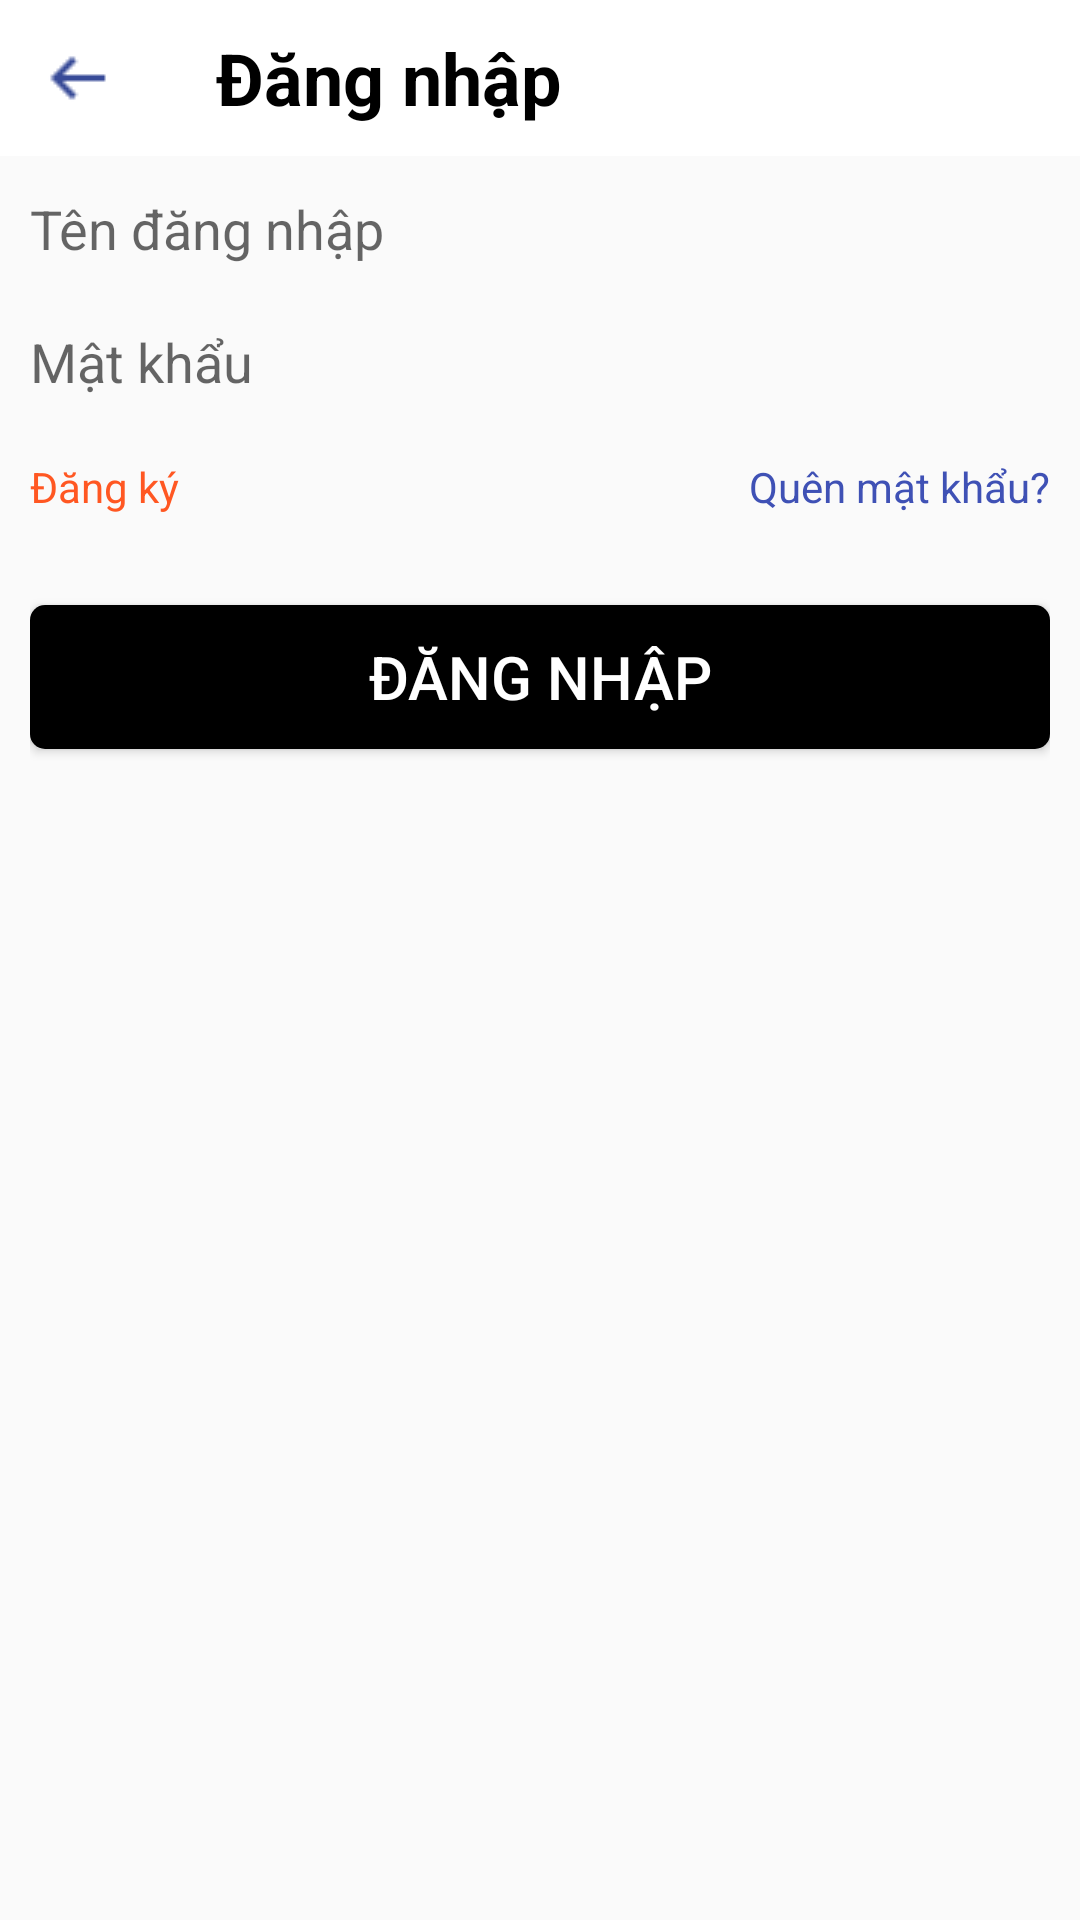

Where icons sit on this 1080px×1920px app screen, as [x1, y1, x2, y2]:
back: [50, 56, 106, 100]
